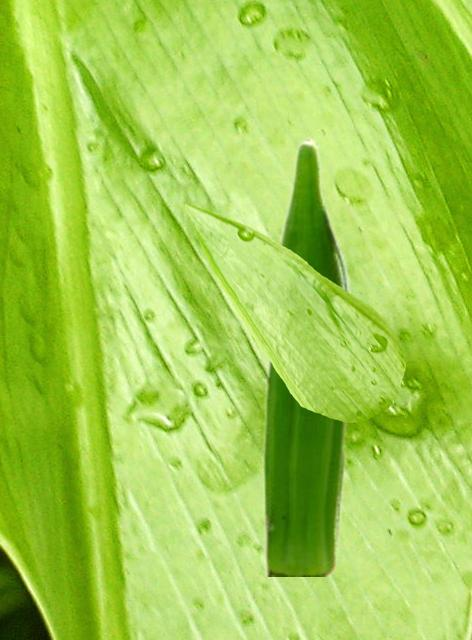okra: (262, 136, 355, 575)
